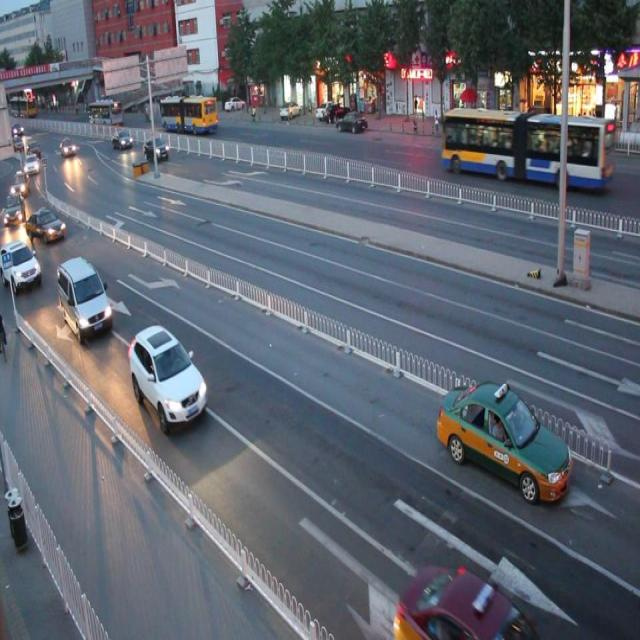car: (436, 382, 574, 500), (394, 562, 535, 640), (127, 323, 209, 428), (57, 256, 114, 340)
van: (441, 103, 615, 194)
